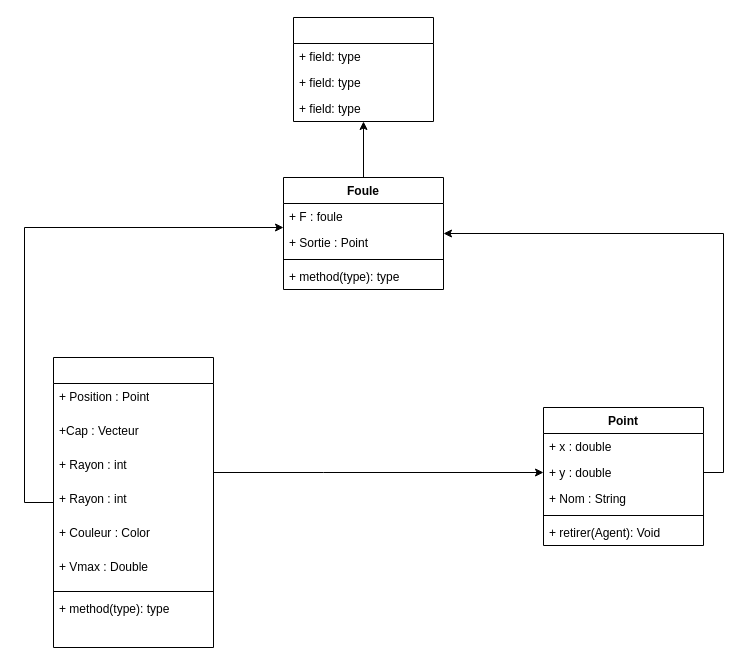
The diagram is 749 pixels wide and 665 high, and some of its shapes have lost their labels. The box of each missing label's shape, as (x1, y1, x2, y2) in pixels:
Agents: (52, 356, 214, 648)
Main: (292, 16, 434, 122)
